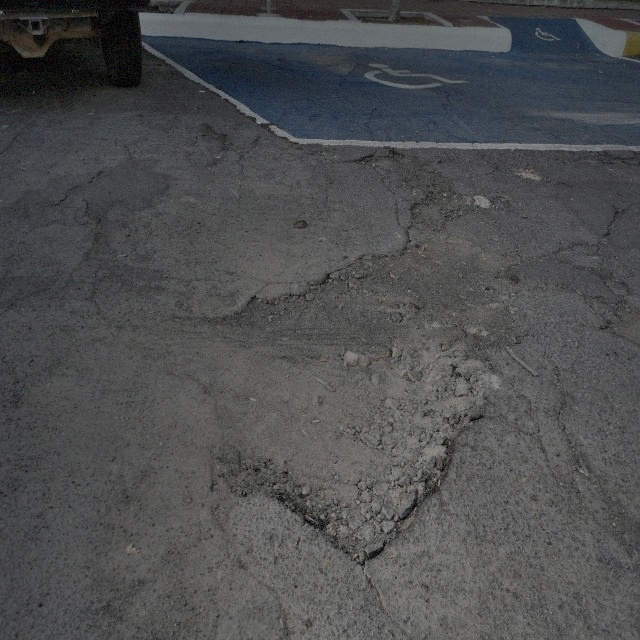pothole: (203, 346, 489, 578), (234, 236, 528, 353), (405, 173, 481, 248), (599, 290, 637, 342), (357, 148, 405, 172)
